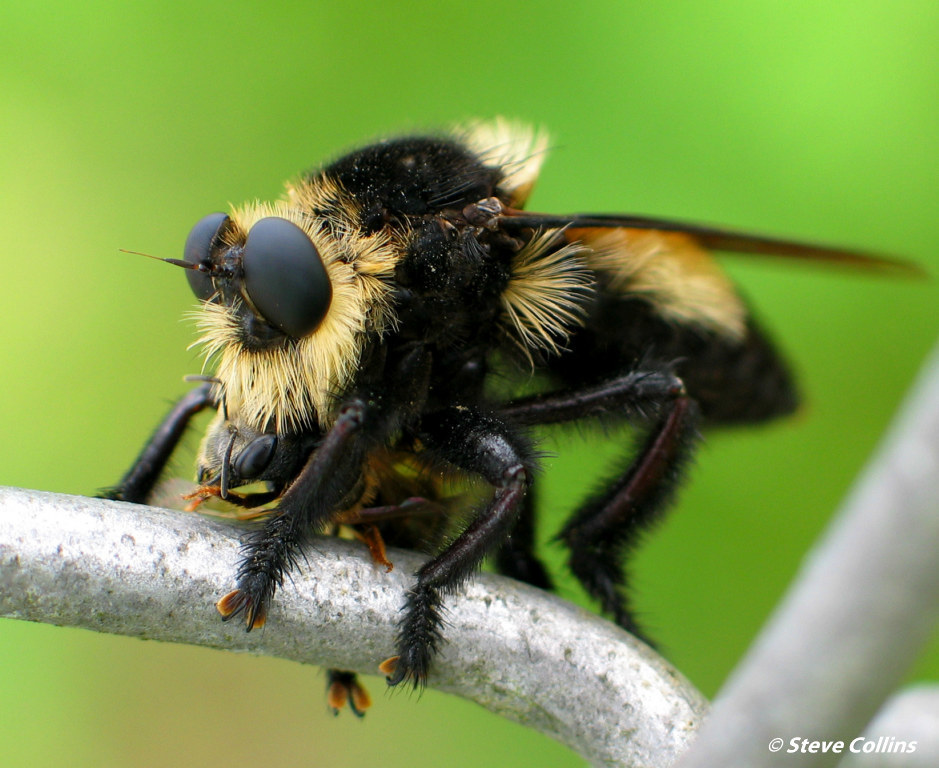not_bumblebee: (97, 115, 933, 719)
